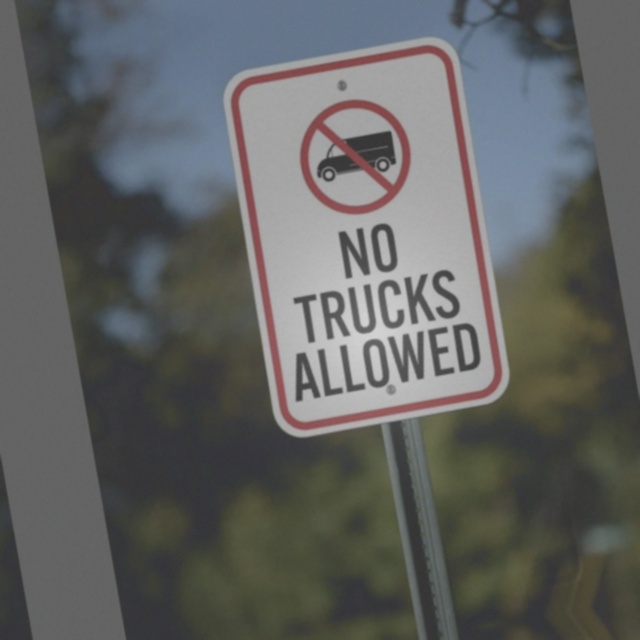Truck_Prohibited: (269, 71, 458, 234)
